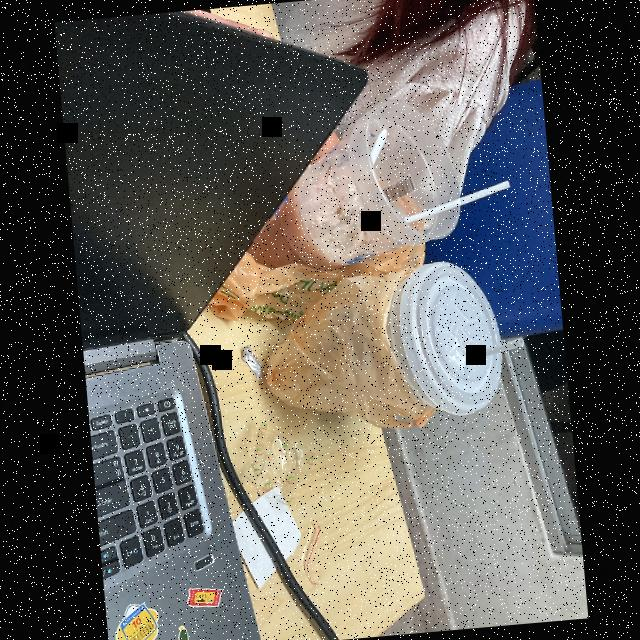plastic_bag: (196, 186, 432, 332), (253, 264, 427, 443)
plastic_cultery: (336, 127, 396, 202)
plastic_cup: (235, 94, 470, 278)
plastic_cup_lid: (382, 255, 511, 425)
scrap_paper: (218, 483, 308, 597)
scrap_plastic: (228, 415, 322, 504), (235, 343, 263, 394)
straw: (392, 177, 514, 233), (459, 335, 526, 367)
